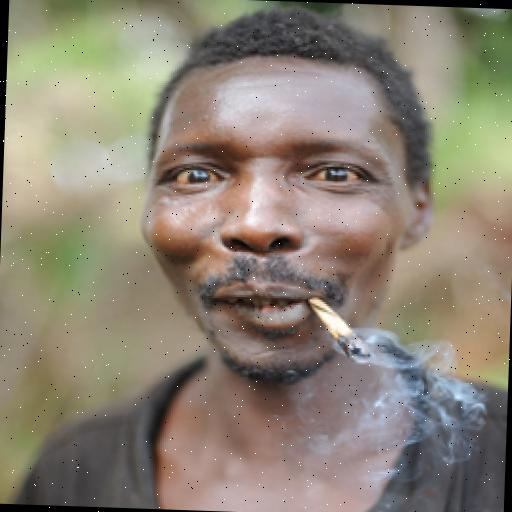dataset-deteksi-merokok: (238, 140, 401, 402)
